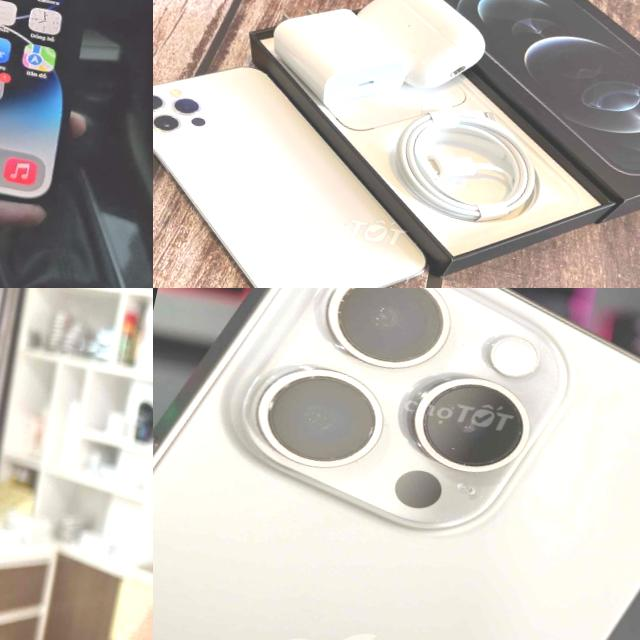gen_12_13: (153, 39, 462, 288)
gen_14: (0, 0, 126, 221)
gen_15: (153, 288, 640, 640)
